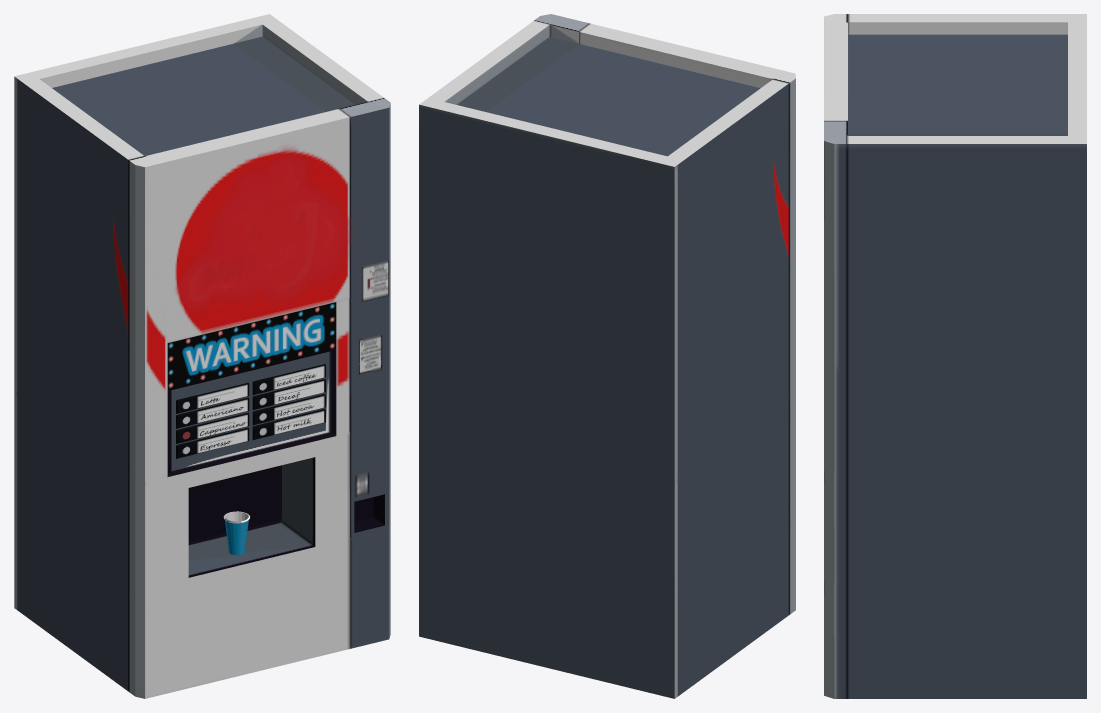
File: Coffe or Drink machine.fbx
3 views of the same model, side by side, from view 1: azimuth 30°, elevation 25°; view 2: azimuth 150°, elevation 25°; view 3: azimuth 270°, elevation 25° (orthographic). The views are drawn at different scales.
Visible parts, largest first — view 1: node_id7 (×2); view 2: node_id7; view 3: node_id7.
Boxes of the visible parts, bbox=[...] form: node_id7 (×2): bbox=[14, 14, 390, 698]; node_id7: bbox=[419, 14, 795, 698]; node_id7: bbox=[824, 14, 1086, 698].
Size of the model in its own units: 0.2575 by 0.512 by 0.2198.
Materials: 2 (2 with a texture image).
